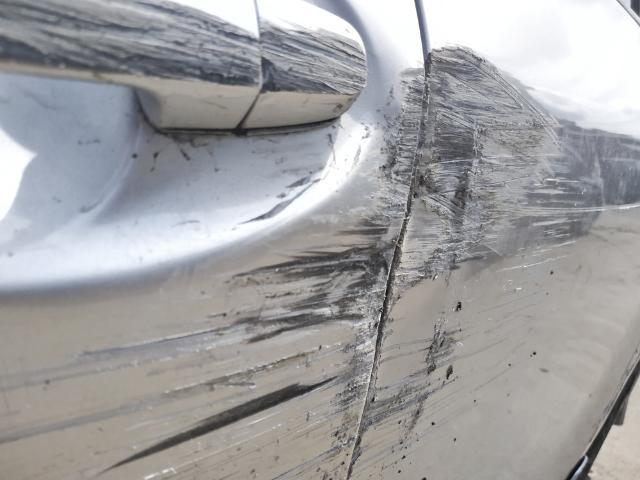scratch: (0, 61, 425, 480), (349, 45, 640, 480), (243, 133, 340, 225)
